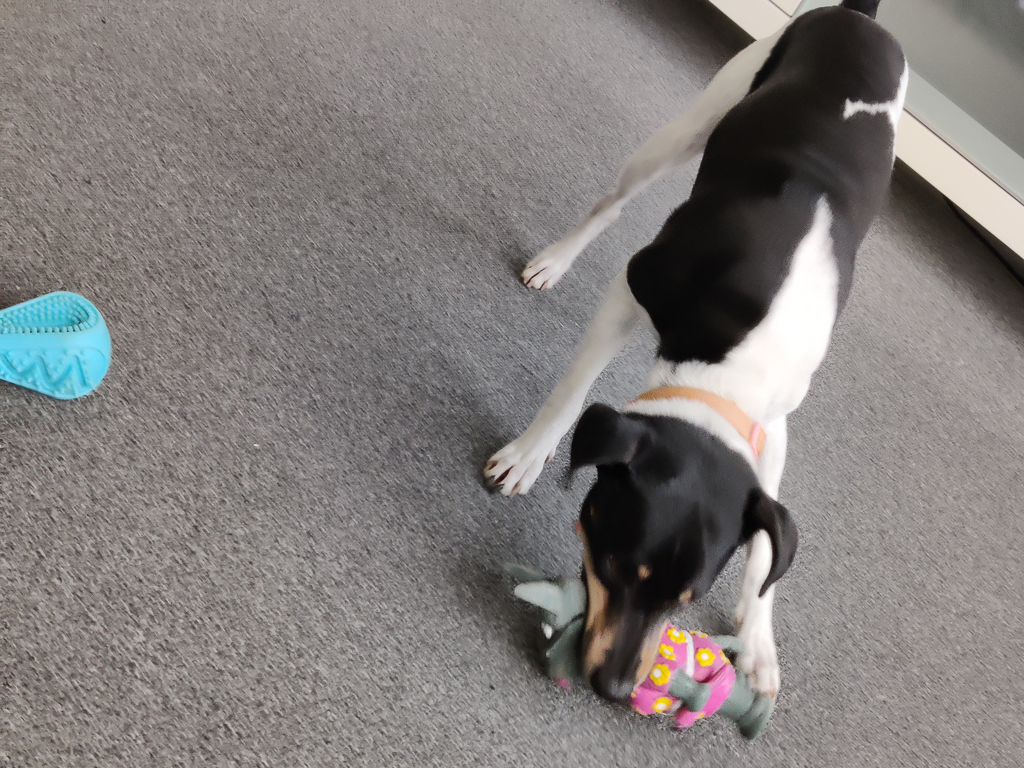Dog: (464, 0, 922, 744)
Humanoid: (483, 535, 779, 747)
